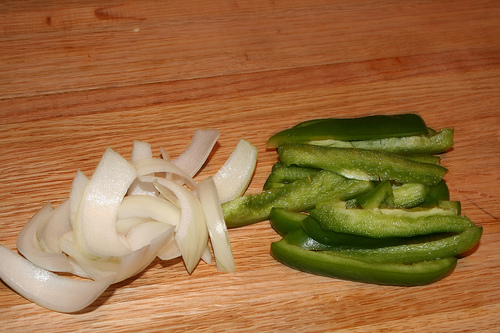capsicum: (220, 114, 485, 289)
